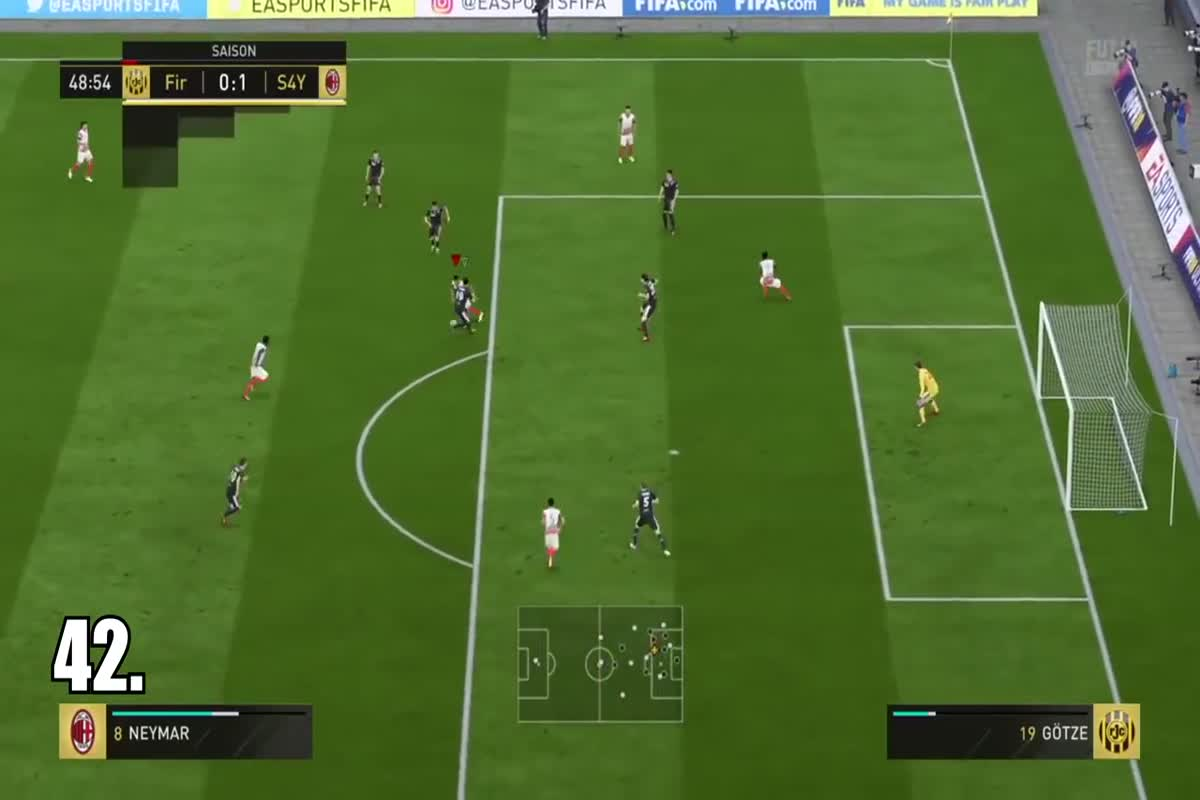ball: (440, 311, 460, 333)
